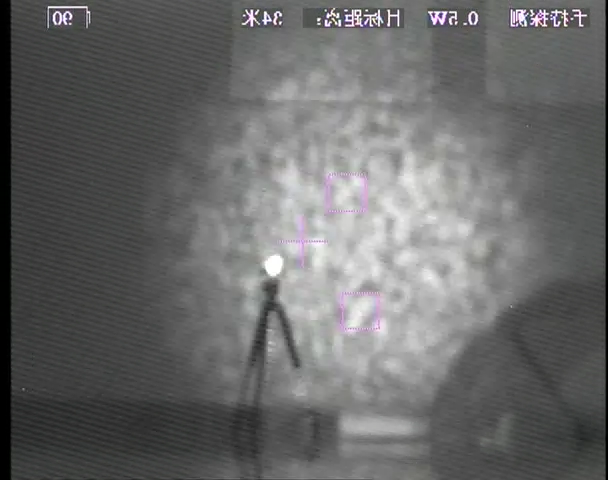my: (260, 251, 284, 279)
